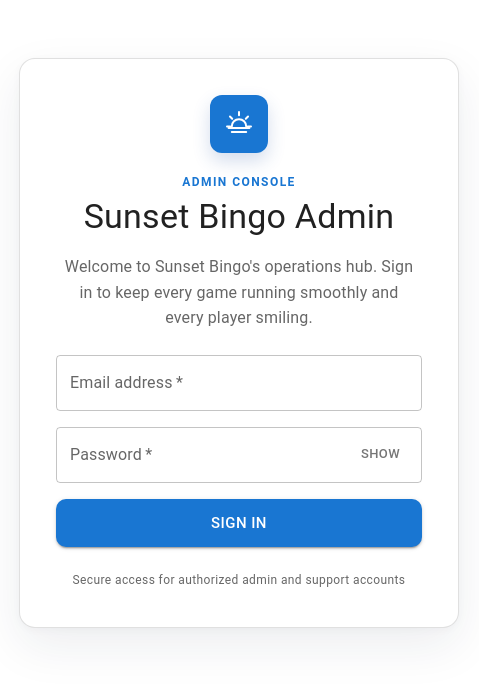
Scenario: LoginPage › explains when the backend cannot be reached during sign-in
This screenshot has width=479, height=699.
Type "admin@bingo.local" into the field labelled "Email address *" at (239, 383), box [56,355,422,411]
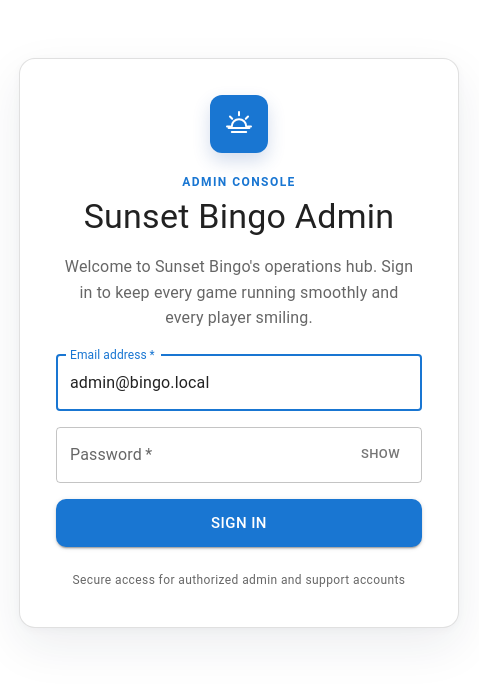
Type "correct-password" into the password field labelled "Password *" at (200, 455), box [56,427,345,483]
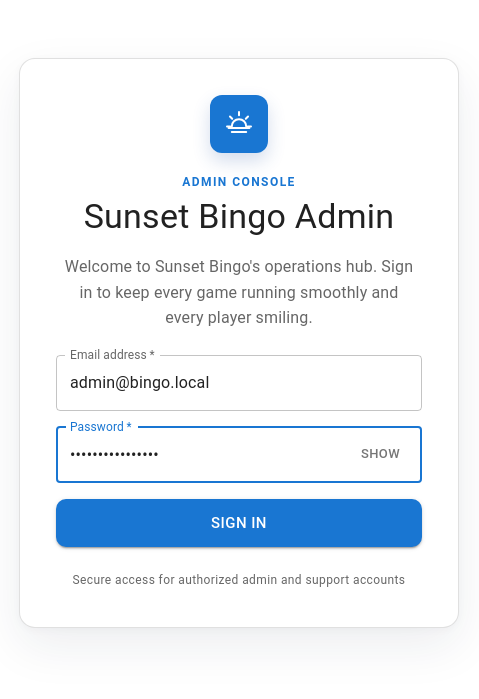
Click the button "Sign in" at (239, 523), box [56,499,422,547]
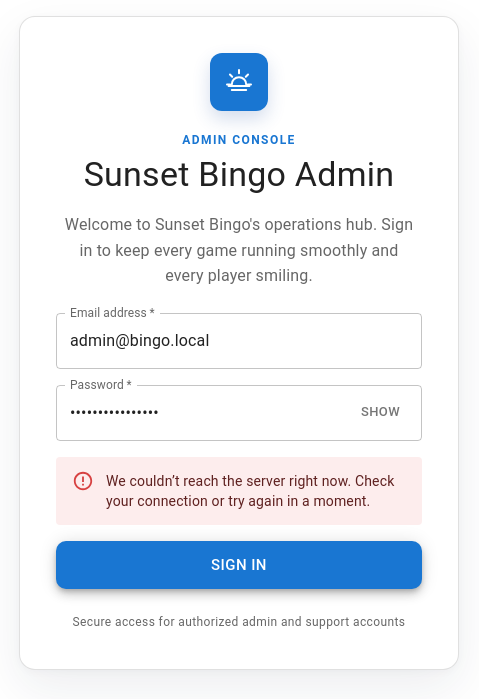
Result: the message shows "We couldn’t reach the server right now. Check your connection or try again in a moment." at [106,473,394,509]
